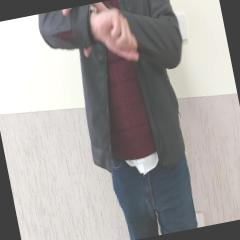not-gloved: (88, 5, 140, 66)
